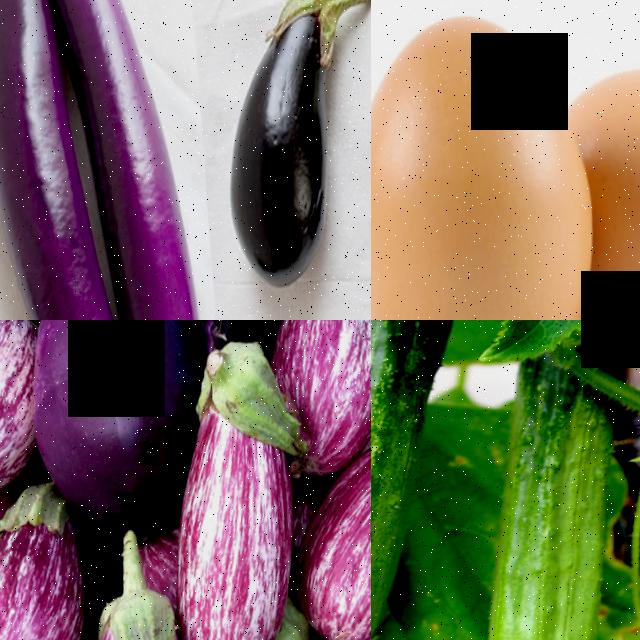cucumber: (459, 377, 633, 640), (371, 320, 459, 640)
egg_: (371, 0, 610, 320), (573, 42, 640, 320)
eggplant: (207, 0, 359, 303), (161, 384, 312, 640), (92, 26, 222, 320), (0, 0, 85, 320), (294, 417, 371, 640), (260, 320, 371, 473), (0, 495, 89, 640), (0, 320, 45, 496), (60, 590, 203, 640)
